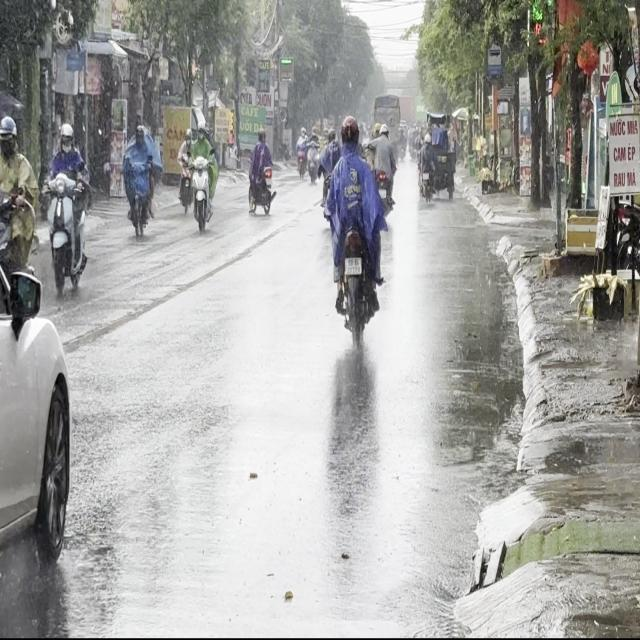helmet: (0, 114, 18, 153), (340, 114, 359, 150), (58, 122, 73, 150)
licenseplate: (322, 111, 387, 348), (0, 113, 43, 334), (43, 120, 90, 296)
nohelmet: (345, 256, 361, 273)
